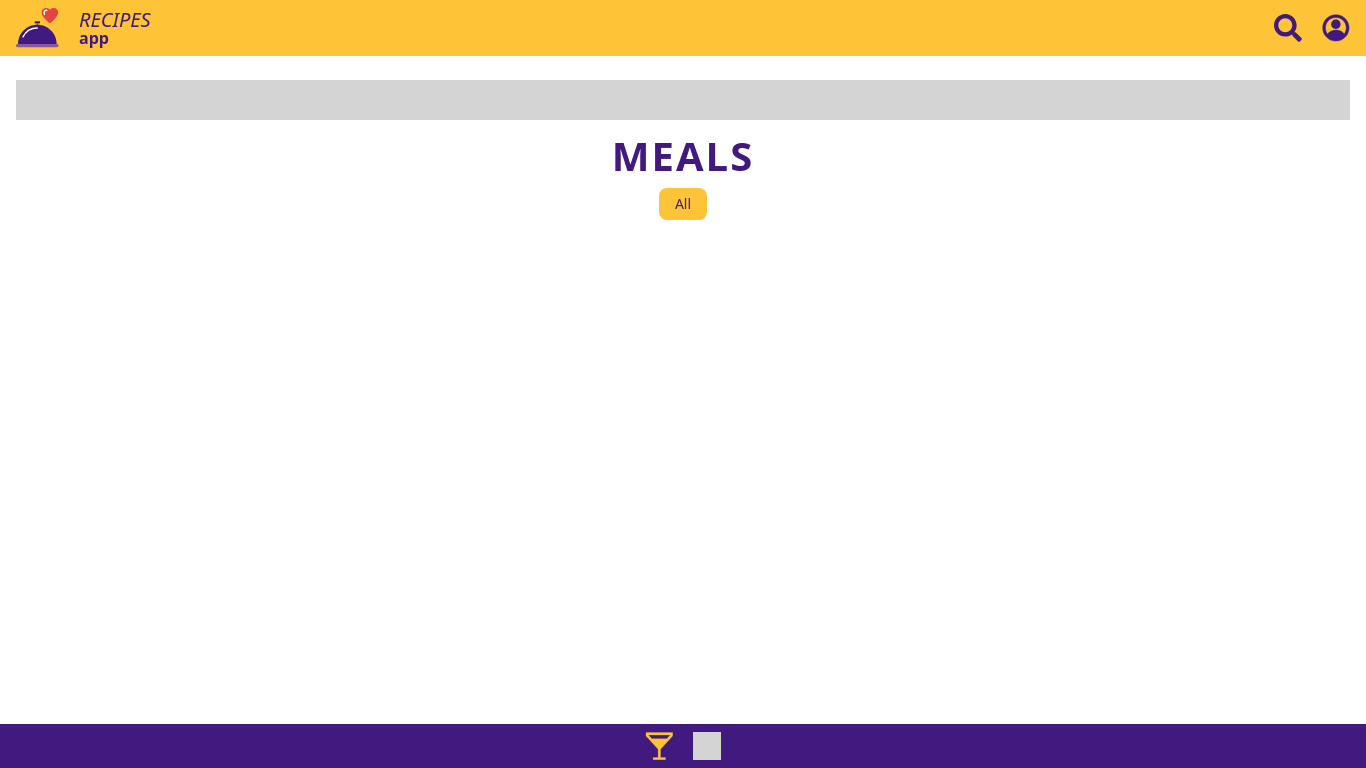
Test: Testa o componente SearchBar › Testa se os componentes são renderizados na tela
The image size is (1366, 768).
Click the button with test id "search-top-btn".
click(1288, 28)  # box [1274, 14, 1302, 42]
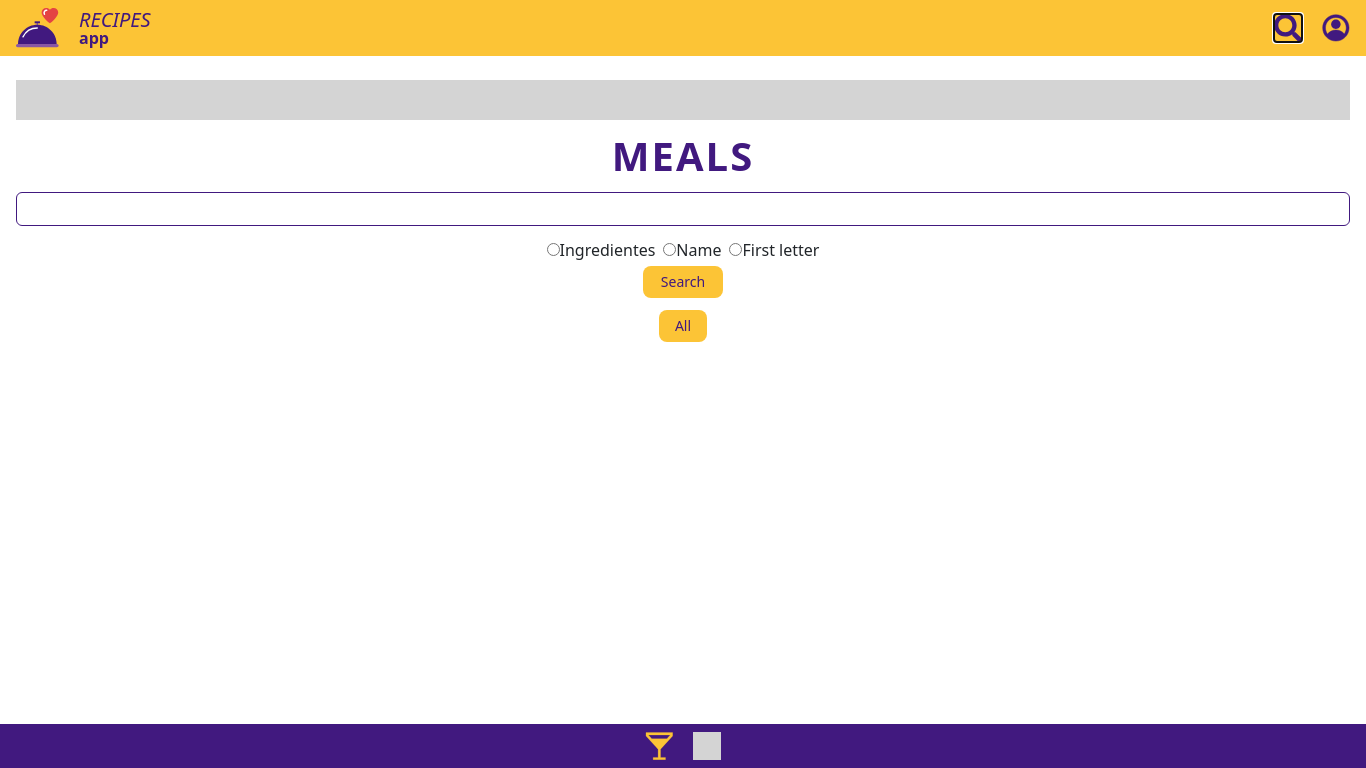
Check: the radio button with test id "ingredient-search-radio" is shown, box [546, 243, 560, 256]
Check: the radio button with test id "name-search-radio" is shown, box [663, 243, 676, 256]
Check: the radio button with test id "first-letter-search-radio" is shown, box [730, 243, 742, 256]
